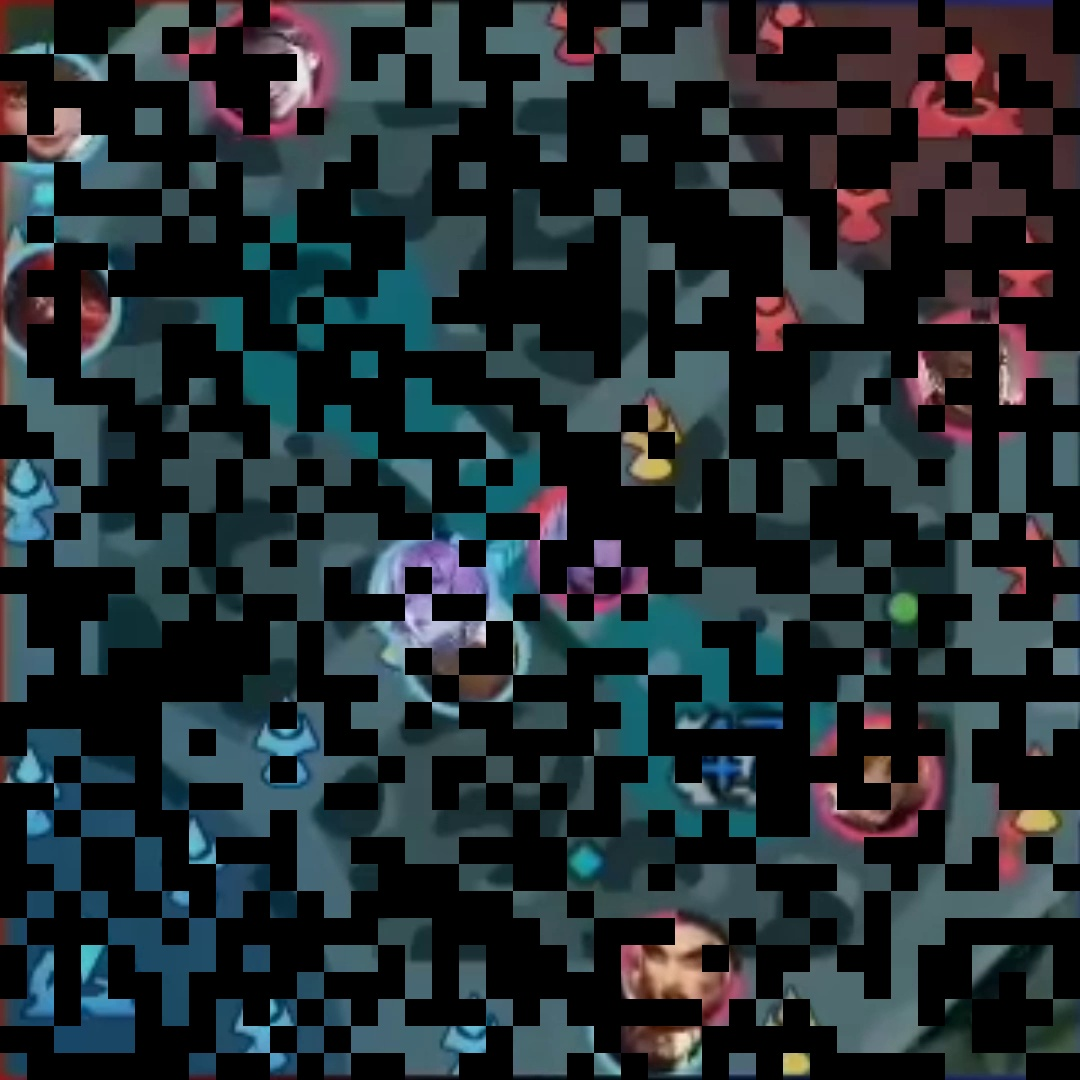Chou: (935, 328, 1008, 425)
Claude: (222, 25, 308, 118)
Fanny: (827, 730, 922, 827)
Fredrinn: (437, 630, 508, 699)
Lapu-Lapu: (611, 1017, 696, 1066)
Masha: (641, 927, 721, 1017)
Minotaur: (18, 256, 100, 349)
Novaria: (386, 550, 478, 636)
Valentina: (548, 499, 635, 594)
Wanwan: (11, 61, 94, 154)
